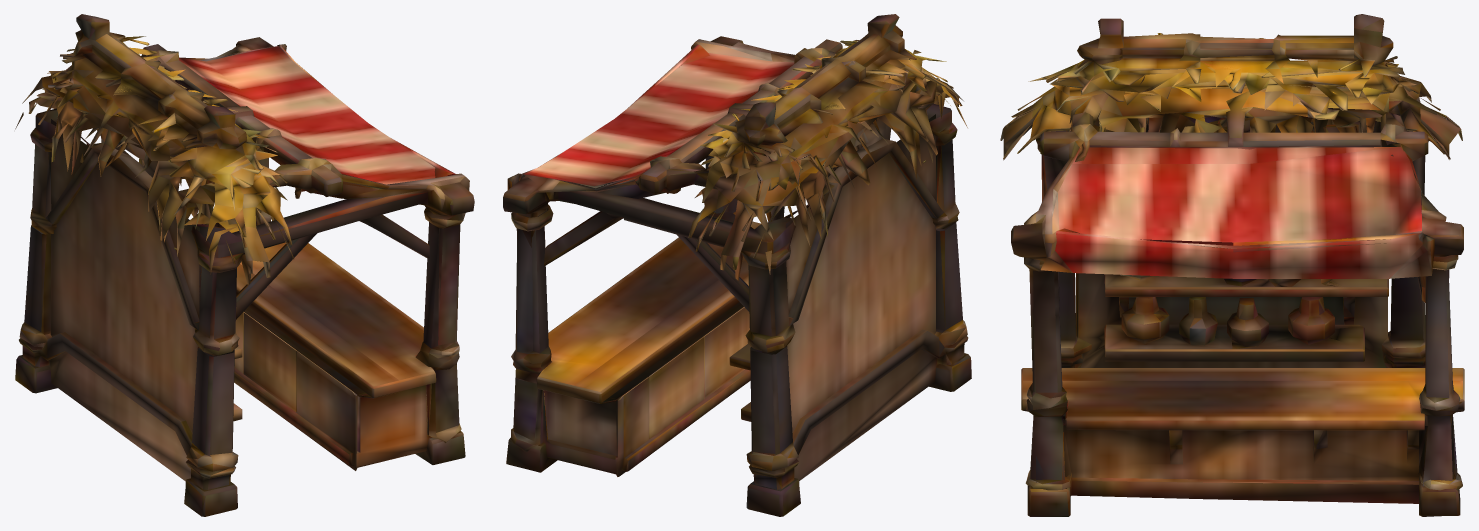
File: prop-market-stall-awning-v3-mobile.glb
3 views of the same model, side by side, from view 1: azimuth 30°, elevation 25°; view 2: azimuth 150°, elevation 25°; view 3: azimuth 270°, elevation 25° (orthographic). The views are drawn at different scales.
Parts seen in each view (by area): view 1: tripo_node_5936ca31-0466-43c7-94ca-a3486f93afa6; view 2: tripo_node_5936ca31-0466-43c7-94ca-a3486f93afa6; view 3: tripo_node_5936ca31-0466-43c7-94ca-a3486f93afa6.
Boxes of the visible parts, x1,y1,x2,y2 form: tripo_node_5936ca31-0466-43c7-94ca-a3486f93afa6: (15,14,474,516); tripo_node_5936ca31-0466-43c7-94ca-a3486f93afa6: (503,14,971,516); tripo_node_5936ca31-0466-43c7-94ca-a3486f93afa6: (1000,14,1464,516).
Bounding box in the file's own units: 0.728 × 0.9295 × 0.9941.
Materials: 1 (1 with a texture image).
